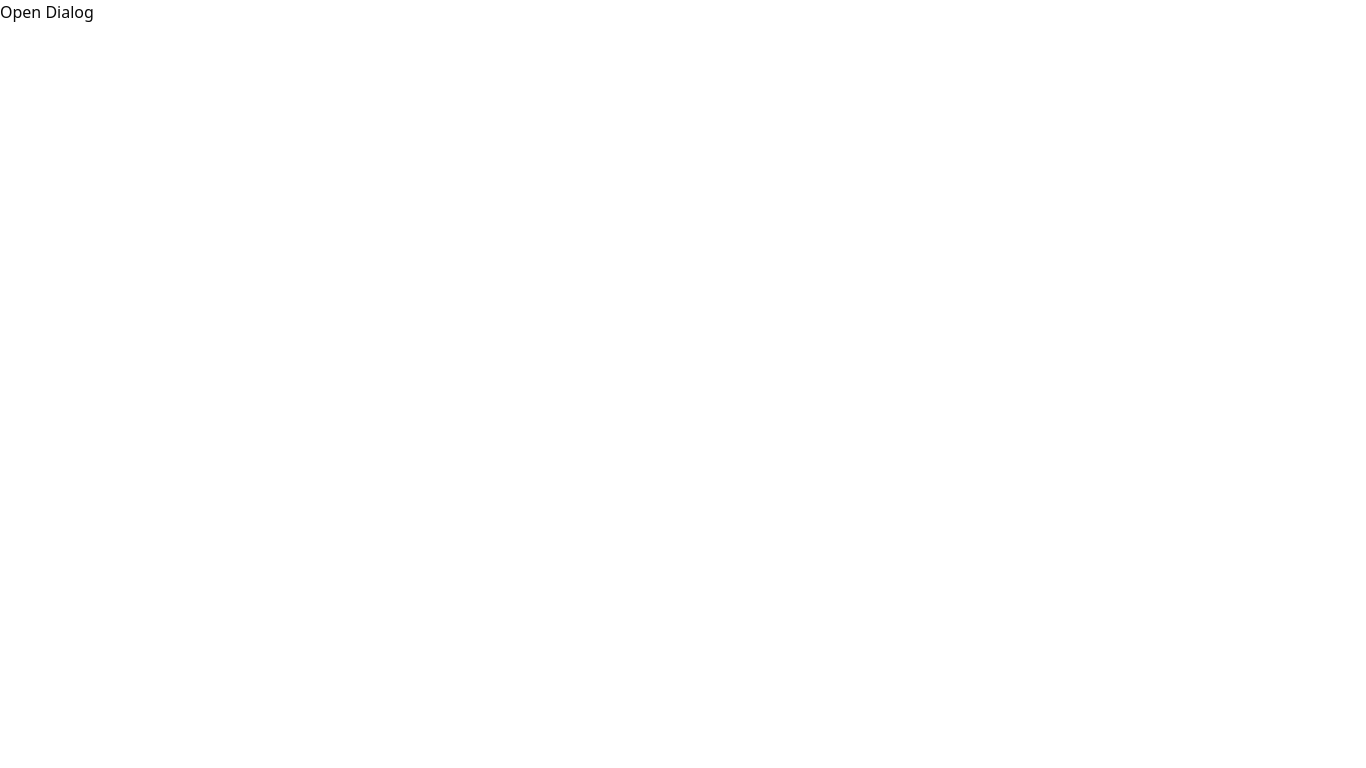
Scenario: AlertDialog component › opens and closes the dialog when trigger is clicked
What coordinates should you click on to do the following:
click the button "Open Dialog"
I would click on:
 (47, 12)
Its box is [0,0,94,24].
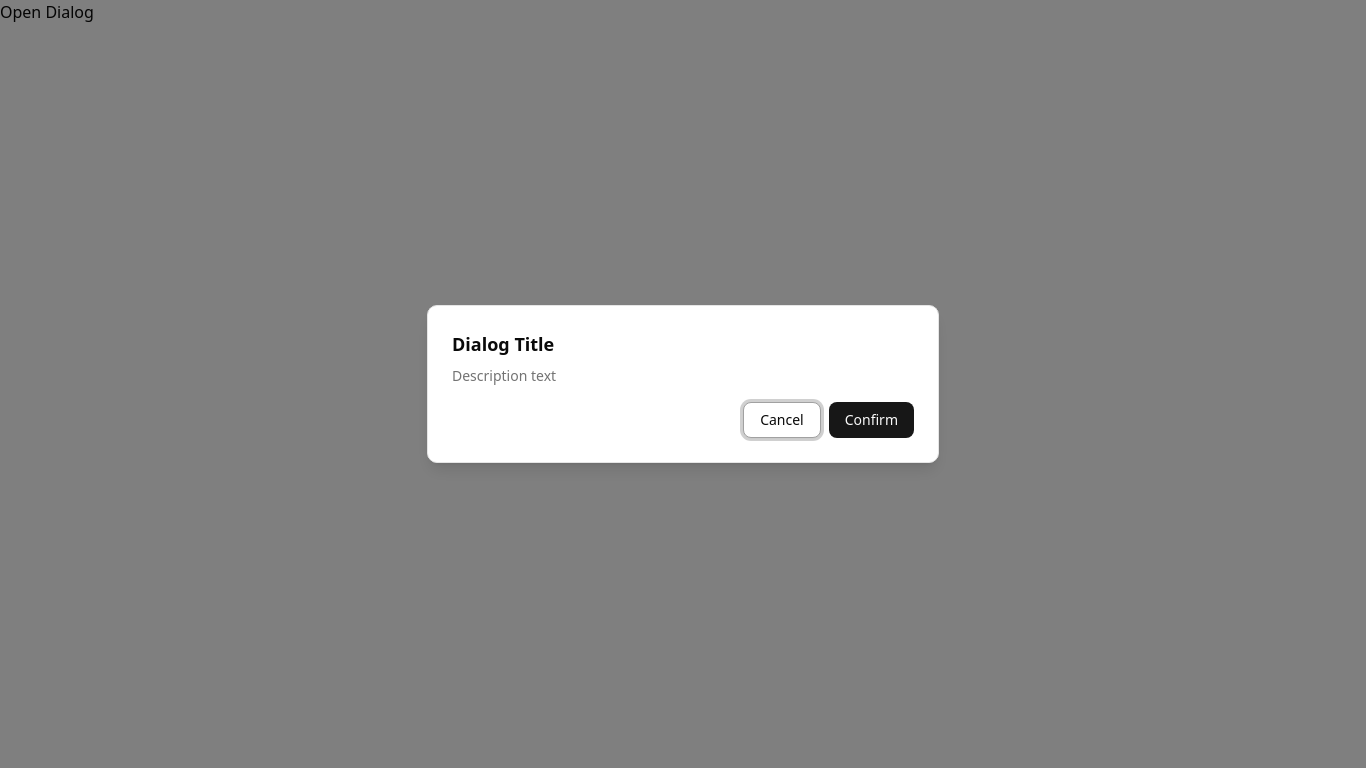
Expected: the heading "Dialog Title" is shown, [452,332,554,356]
Expected: the text "Description text" is shown, [452,366,556,385]
What coordinates should you click on to do the following:
click the button "Cancel"
I would click on:
 (782, 420)
Its box is [743,402,821,438].
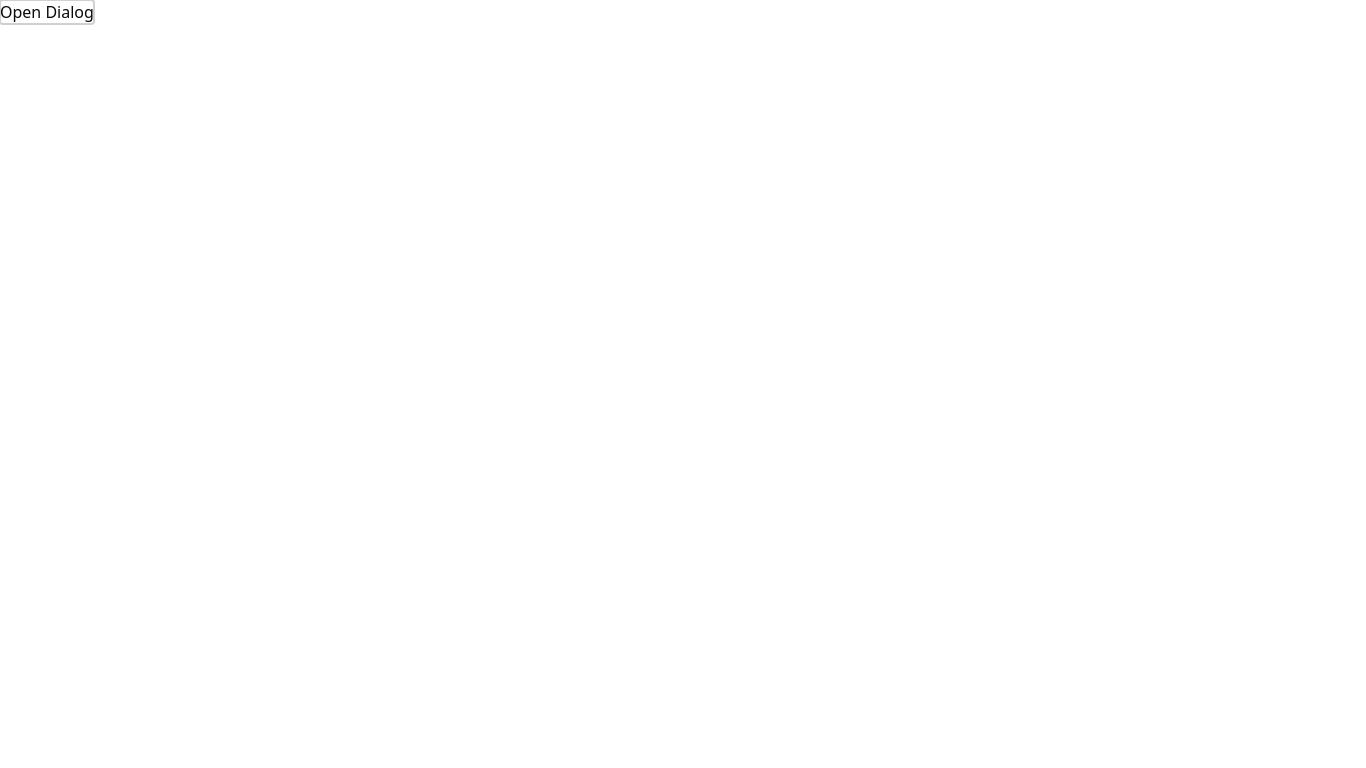
Expected: the heading "Dialog Title" is gone
